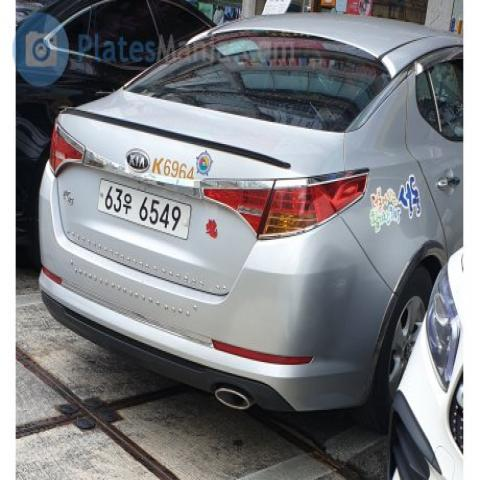LP: (92, 174, 196, 243)
